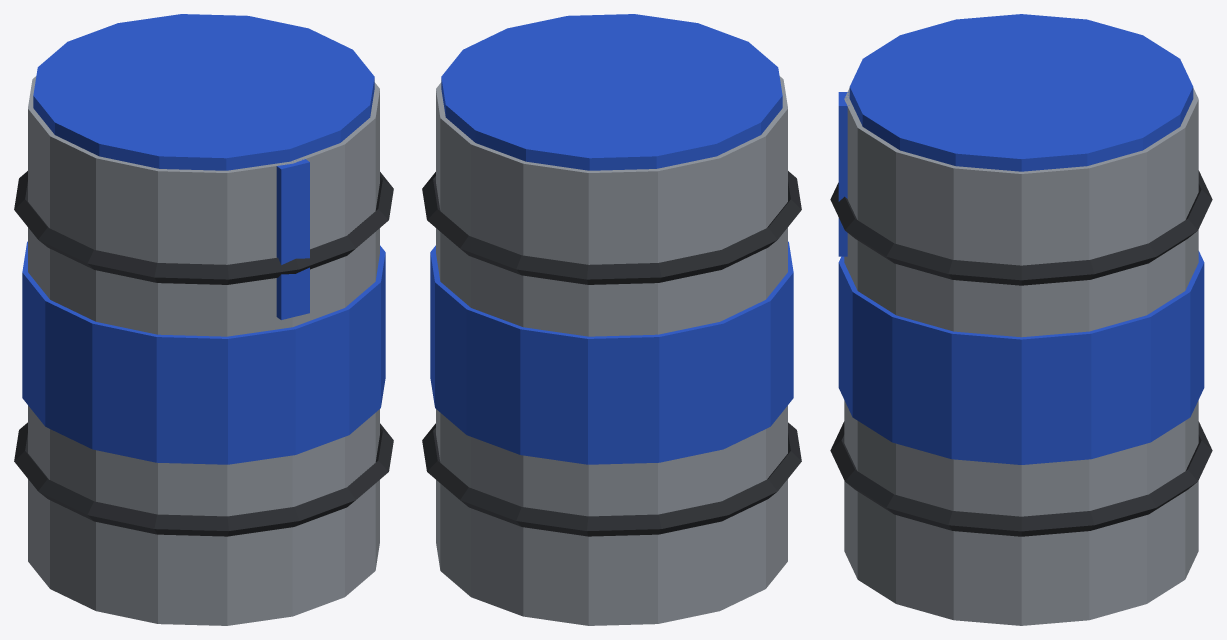
Rendered from ink_barrel_blue.glb.
The picture shows the model from 3 angles, left to right: view 1: azimuth 30°, elevation 25°; view 2: azimuth 150°, elevation 25°; view 3: azimuth 270°, elevation 25°; orthographic projection.
Visible parts, largest first — view 1: drum_press_steel, band_ink_ink_barrel_blue, lid_ink_ink_barrel_blue, hoop_press_dark (×2), drip_ink_ink_barrel_blue; view 2: drum_press_steel, band_ink_ink_barrel_blue, lid_ink_ink_barrel_blue, hoop_press_dark (×2); view 3: drum_press_steel, band_ink_ink_barrel_blue, lid_ink_ink_barrel_blue, hoop_press_dark (×2), drip_ink_ink_barrel_blue.
Part boxes in pixels (x1,y1,x2,y2): drum_press_steel: [28, 76, 379, 625]; band_ink_ink_barrel_blue: [22, 241, 385, 464]; lid_ink_ink_barrel_blue: [33, 14, 374, 170]; hoop_press_dark (×2): [14, 171, 393, 536]; drip_ink_ink_barrel_blue: [276, 159, 309, 319]; drum_press_steel: [436, 76, 787, 625]; band_ink_ink_barrel_blue: [430, 241, 793, 464]; lid_ink_ink_barrel_blue: [441, 14, 782, 170]; hoop_press_dark (×2): [422, 171, 801, 536]; drum_press_steel: [844, 88, 1198, 625]; band_ink_ink_barrel_blue: [838, 251, 1204, 464]; lid_ink_ink_barrel_blue: [849, 14, 1193, 171]; hoop_press_dark (×2): [830, 170, 1212, 536]; drip_ink_ink_barrel_blue: [838, 92, 849, 256].
Bounding box in the file's own units: 0.69 × 0.925 × 0.69.
